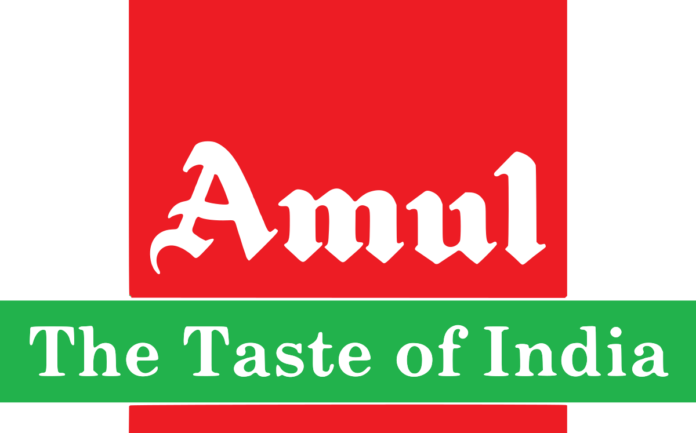Amul: (130, 134, 569, 288)
